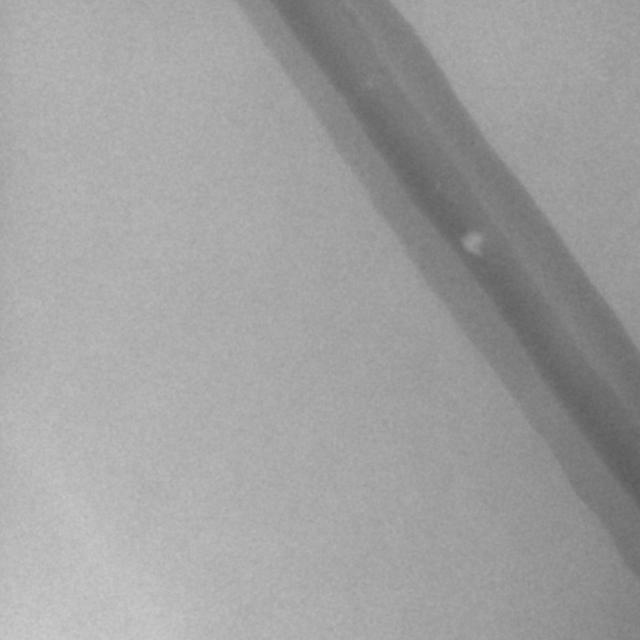slag inclusion: (460, 232, 483, 256)
